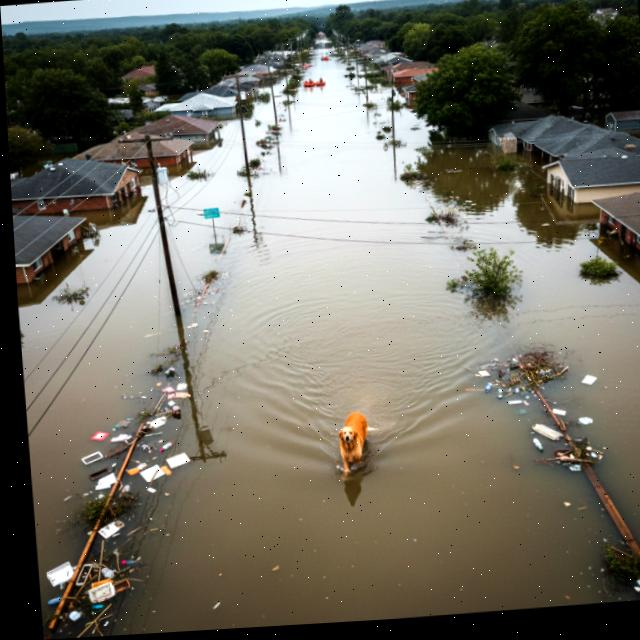dog: (327, 406, 379, 482)
